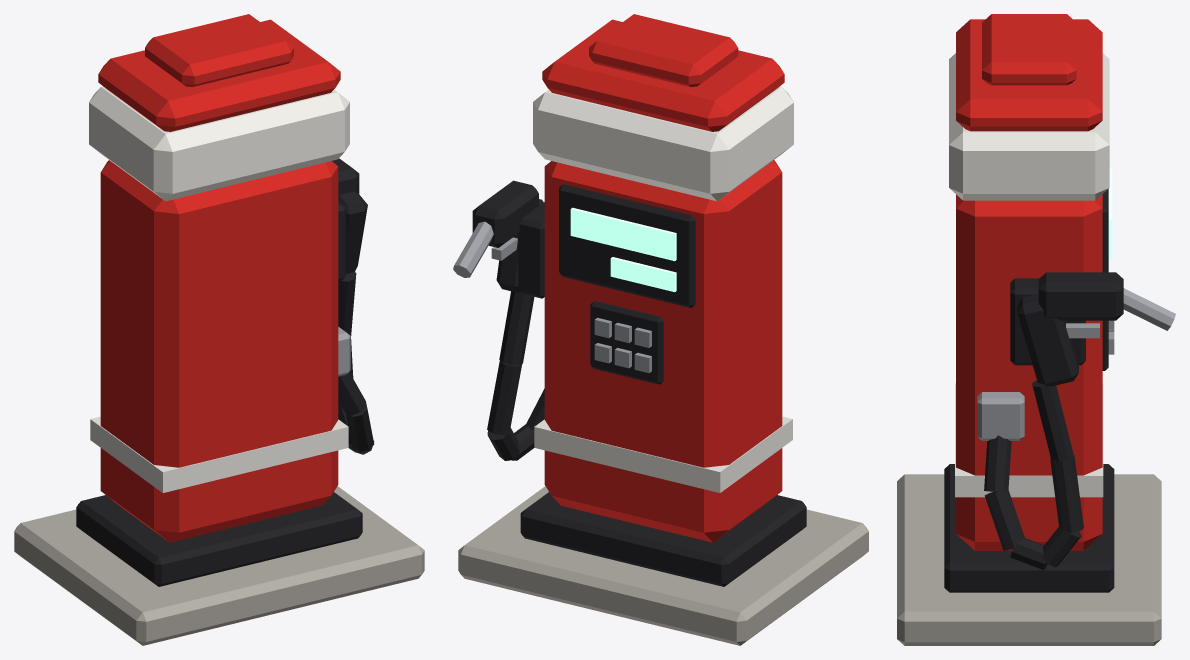
Rendered from gas_pump.glb.
The picture shows the model from 3 angles, left to right: view 1: azimuth 30°, elevation 25°; view 2: azimuth 150°, elevation 25°; view 3: azimuth 270°, elevation 25°; orthographic projection. The views are drawn at different scales.
Parts seen in each view (by area): view 1: SmoothPlastic__D62620, Concrete__B0ACA4, SmoothPlastic__F0EEE8, SmoothPlastic__222226; view 2: SmoothPlastic__D62620, SmoothPlastic__222226, Concrete__B0ACA4, SmoothPlastic__F0EEE8, Neon__78DC96, Metal__A0A2A8; view 3: SmoothPlastic__D62620, SmoothPlastic__222226, Concrete__B0ACA4, SmoothPlastic__F0EEE8, Metal__A0A2A8, Neon__78DC96.
Part boxes in pixels (x1,y1,x2,y2): SmoothPlastic__D62620: (98, 14, 340, 542); Concrete__B0ACA4: (14, 486, 424, 645); SmoothPlastic__F0EEE8: (89, 86, 349, 492); SmoothPlastic__222226: (76, 158, 374, 586); SmoothPlastic__D62620: (542, 14, 784, 542); SmoothPlastic__222226: (472, 180, 806, 586); Concrete__B0ACA4: (458, 486, 868, 645); SmoothPlastic__F0EEE8: (533, 86, 793, 492); Neon__78DC96: (570, 207, 676, 292); Metal__A0A2A8: (453, 221, 651, 372); SmoothPlastic__D62620: (956, 14, 1102, 550); SmoothPlastic__222226: (944, 189, 1123, 592); Concrete__B0ACA4: (897, 474, 1161, 645); SmoothPlastic__F0EEE8: (949, 53, 1109, 497); Metal__A0A2A8: (977, 288, 1175, 440); Neon__78DC96: (1108, 167, 1112, 258).
Bounding box in the file's own units: 3.73 × 6.3 × 2.95.
